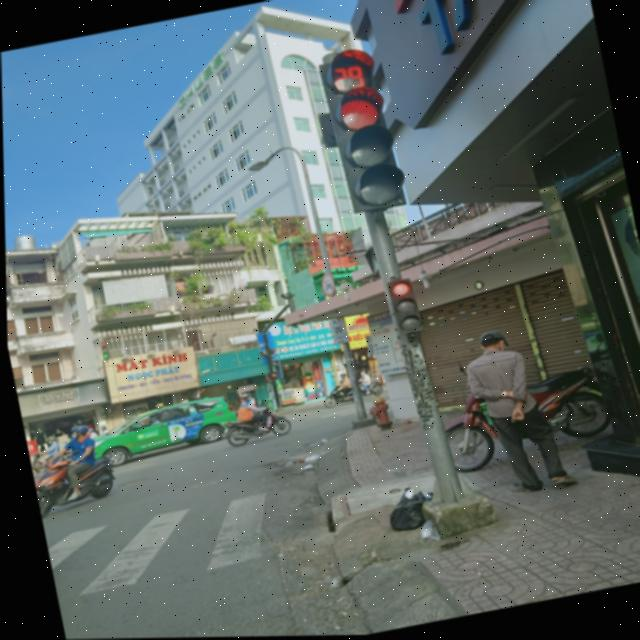Red: (324, 83, 411, 219), (376, 275, 428, 341)
